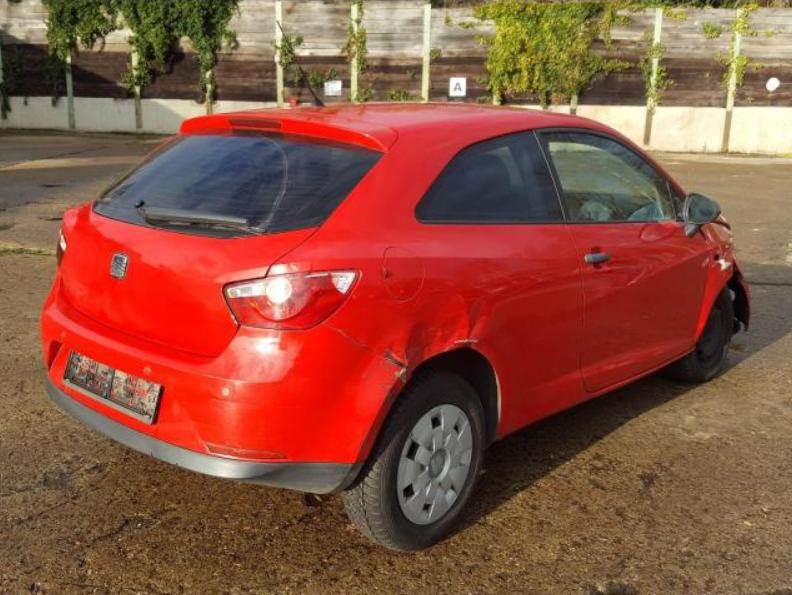Back-bumper: (39, 269, 412, 495)
Back-wheel: (341, 367, 487, 552)
Back-window: (419, 132, 564, 222)
Back-windshield: (93, 129, 382, 239)
Fender: (696, 223, 734, 340)
Front-bumper: (727, 258, 751, 330)
Front-door: (537, 129, 711, 392)
Front-wheel: (676, 285, 734, 380)
Front-window: (540, 132, 674, 220)
License-plate: (63, 351, 164, 424)
Mirror: (683, 192, 721, 238)
Quarter-panel: (268, 224, 588, 427)
Rocker-panel: (495, 347, 696, 439)
Roof: (254, 102, 615, 150)
Tail-light: (224, 270, 361, 332), (55, 234, 66, 267)
Trunk: (57, 199, 315, 358), (181, 110, 399, 152)
